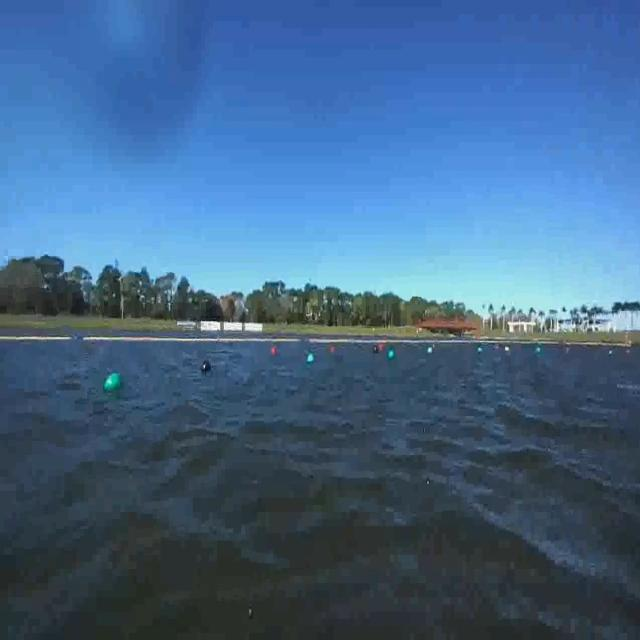black-buoy: (202, 359, 213, 380)
green-buoy: (106, 373, 125, 392), (306, 354, 313, 364)
